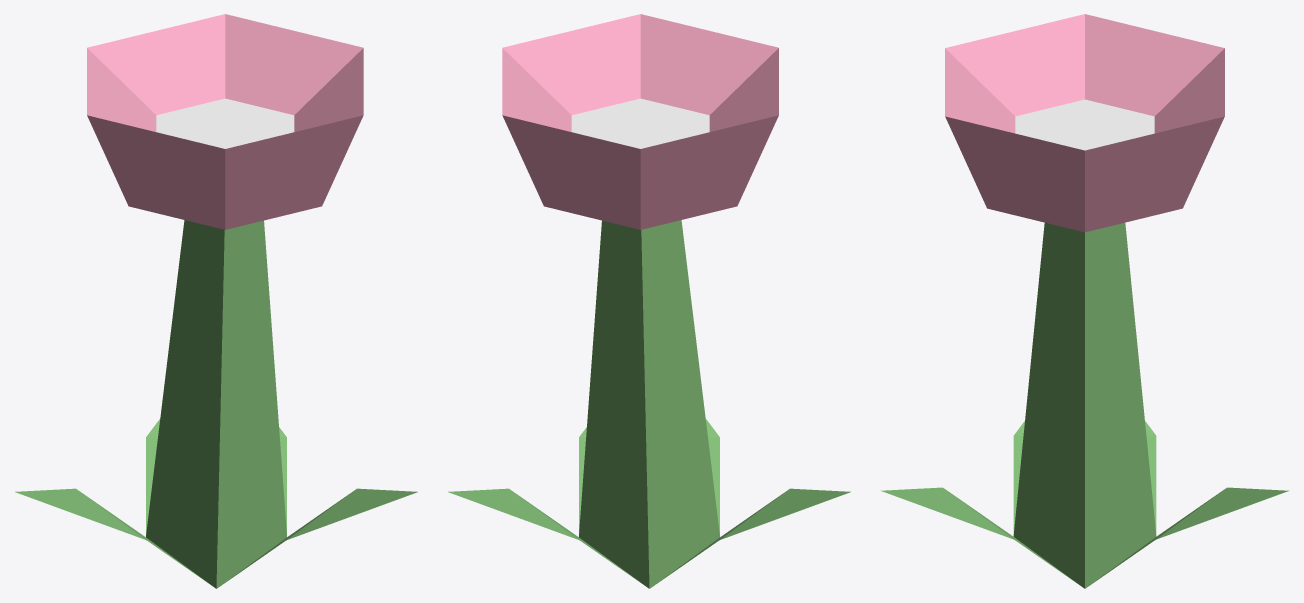
Rendered from nature_flower_pink.glb.
3 renders of one model, left to right at view 1: azimuth 30°, elevation 25°; view 2: azimuth 150°, elevation 25°; view 3: azimuth 270°, elevation 25°, orthographic.
Visible parts, largest first — view 1: flower_redC; view 2: flower_redC; view 3: flower_redC.
Part boxes in pixels (<box>): flower_redC: <box>15,14,417,588</box>; flower_redC: <box>448,14,850,588</box>; flower_redC: <box>881,14,1288,588</box>.
Size of the model in its own units: 0.3251 by 0.4185 by 0.3259.
